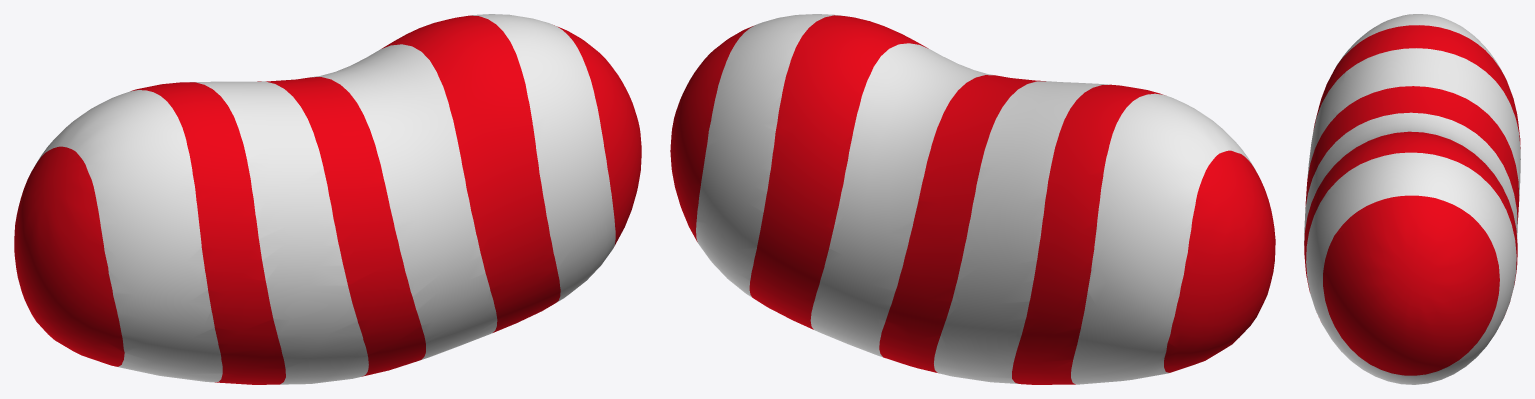
Rendered from kirmiziSeker.fbx.
The picture shows the model from 3 angles, left to right: view 1: azimuth 30°, elevation 25°; view 2: azimuth 150°, elevation 25°; view 3: azimuth 270°, elevation 25°; orthographic projection. The views are drawn at different scales.
Visible parts, largest first — view 1: kirmiziseker2; view 2: kirmiziseker2; view 3: kirmiziseker2.
Boxes of the visible parts, x1=… form: kirmiziseker2: x1=14, y1=14, x2=641, y2=384; kirmiziseker2: x1=670, y1=14, x2=1275, y2=384; kirmiziseker2: x1=1304, y1=14, x2=1520, y2=384.
Bounding box in the file's own units: 75 × 37.94 × 30.55.
